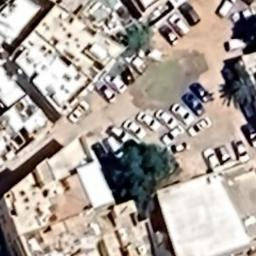sedan: (180, 88, 208, 118), (134, 108, 162, 136), (65, 96, 92, 124), (170, 100, 196, 126), (230, 135, 252, 165), (93, 80, 117, 106), (122, 50, 148, 74), (186, 116, 214, 138), (120, 117, 146, 140), (104, 72, 128, 96), (154, 105, 177, 128), (160, 122, 183, 145), (116, 61, 136, 86), (202, 145, 220, 171), (165, 140, 194, 156)
truck: (165, 8, 193, 38)
unknown: (178, 0, 200, 28), (155, 24, 180, 48), (212, 142, 234, 164)
